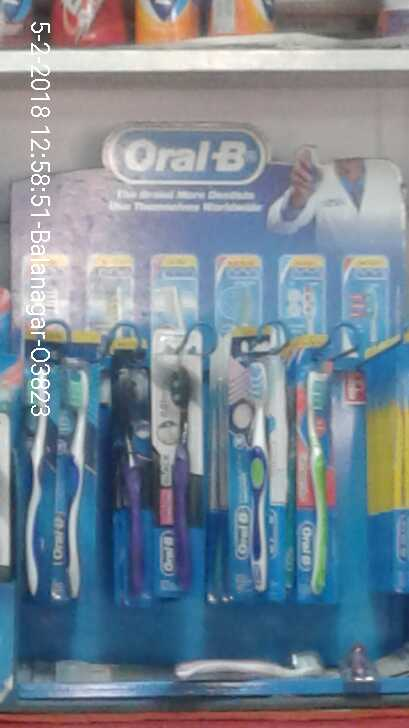oralb: (153, 330, 212, 594), (228, 325, 285, 597), (294, 341, 342, 606), (116, 336, 163, 604), (64, 356, 97, 599)
